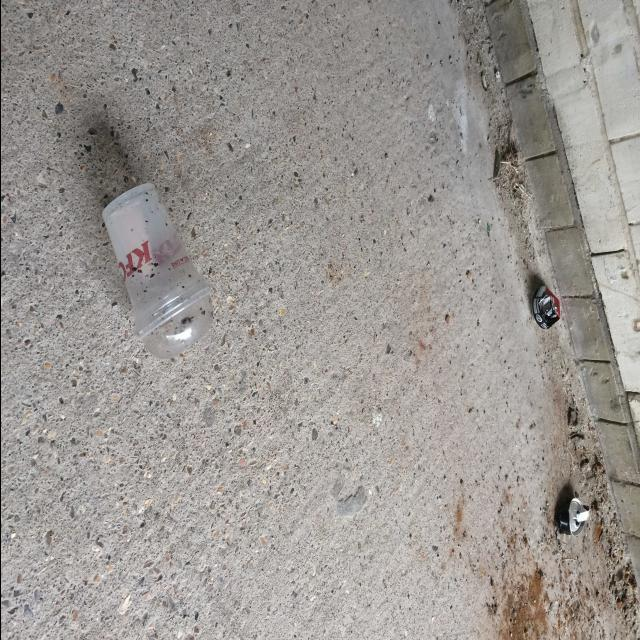Disposable plastic cup: (101, 183, 210, 341)
Drink can: (530, 285, 559, 329), (555, 498, 584, 536)
Plastic lid: (129, 280, 213, 360)
